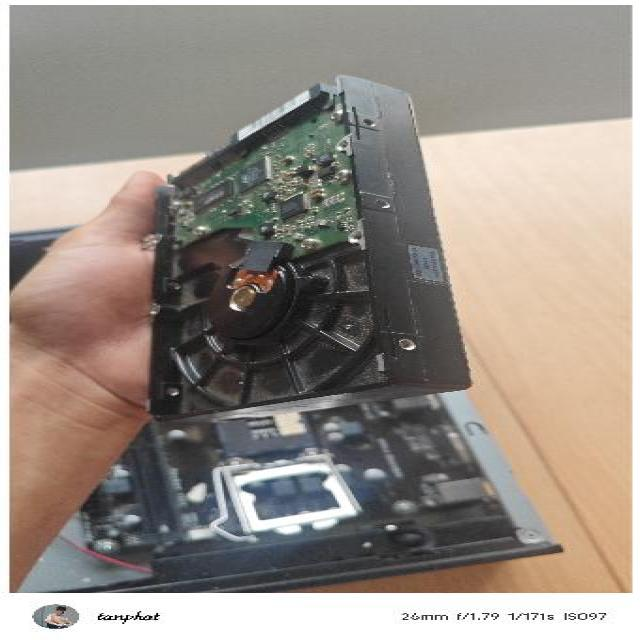DISK: (135, 70, 477, 426)
